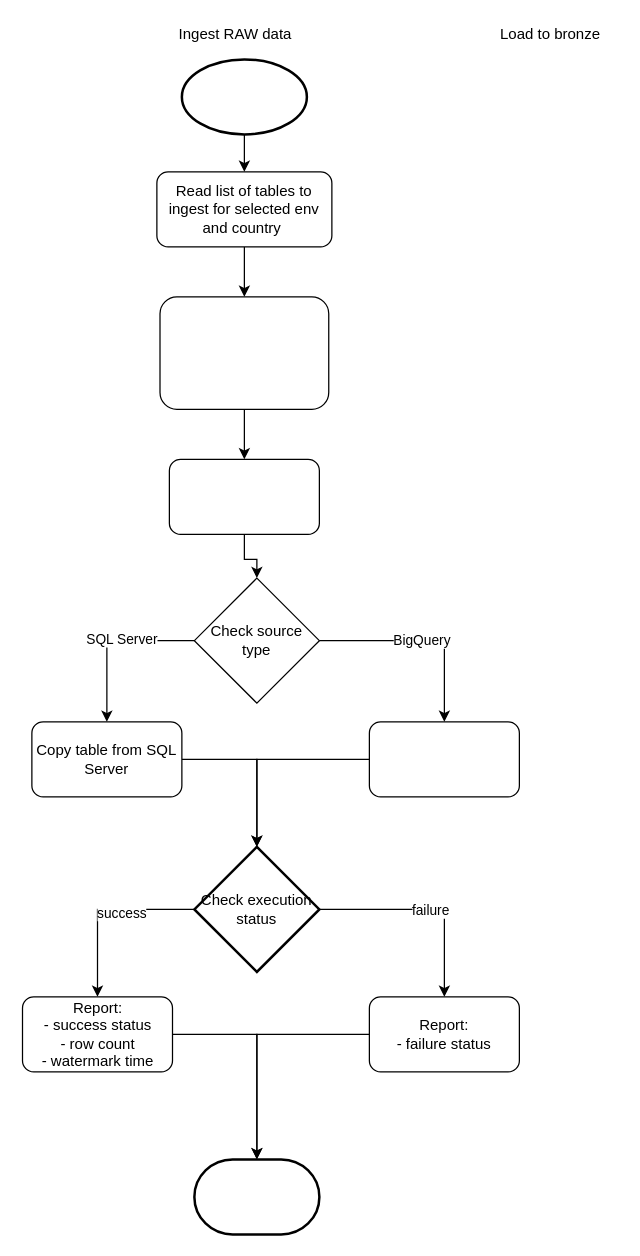
Some shapes in this 640 by 1256 pixel diagram are drawn without their labels. The shapes that lost their labels are listed below. From the top down, each one's centre as x and y in pixels, then its label:
point (244, 352): Define pipeline parameters: - pipeline id - watermark time
point (243, 496): Create select query
point (443, 759): Copy table from BigQuery
